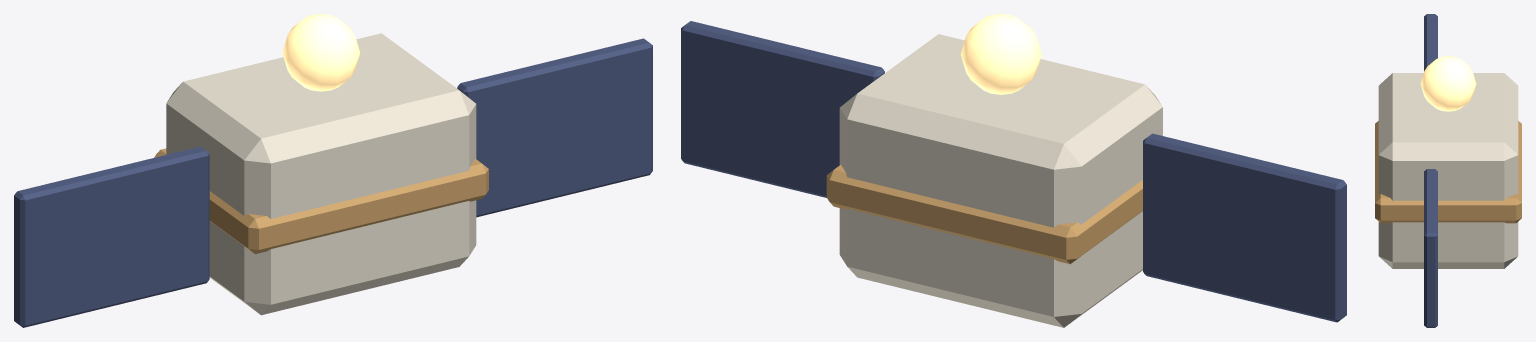
File: orb4_gag_train_satellite.glb
The picture shows the model from 3 angles, left to right: view 1: azimuth 30°, elevation 25°; view 2: azimuth 150°, elevation 25°; view 3: azimuth 270°, elevation 25°; orthographic projection. The views are drawn at different scales.
Parts seen in each view (by area): view 1: orb4_gag_train_satellite__orb3-ivory-ceramic, orb4_gag_train_satellite__orb3-indigo-glaze, orb4_gag_train_satellite__orb3-brushed-brass, orb4_gag_train_satellite__orb4-warm-lamp; view 2: orb4_gag_train_satellite__orb3-ivory-ceramic, orb4_gag_train_satellite__orb3-indigo-glaze, orb4_gag_train_satellite__orb3-brushed-brass, orb4_gag_train_satellite__orb4-warm-lamp; view 3: orb4_gag_train_satellite__orb3-ivory-ceramic, orb4_gag_train_satellite__orb3-brushed-brass, orb4_gag_train_satellite__orb3-indigo-glaze, orb4_gag_train_satellite__orb4-warm-lamp.
Part boxes in pixels (left/top/right/bottom): orb4_gag_train_satellite__orb3-ivory-ceramic: left=166, top=33, right=476, bottom=315; orb4_gag_train_satellite__orb3-indigo-glaze: left=14, top=38, right=652, bottom=327; orb4_gag_train_satellite__orb3-brushed-brass: left=154, top=148, right=488, bottom=253; orb4_gag_train_satellite__orb4-warm-lamp: left=282, top=14, right=360, bottom=91; orb4_gag_train_satellite__orb3-ivory-ceramic: left=839, top=34, right=1162, bottom=327; orb4_gag_train_satellite__orb3-indigo-glaze: left=681, top=21, right=1346, bottom=322; orb4_gag_train_satellite__orb3-brushed-brass: left=826, top=165, right=1142, bottom=264; orb4_gag_train_satellite__orb4-warm-lamp: left=960, top=14, right=1041, bottom=94; orb4_gag_train_satellite__orb3-ivory-ceramic: left=1378, top=73, right=1518, bottom=268; orb4_gag_train_satellite__orb3-brushed-brass: left=1375, top=121, right=1521, bottom=223; orb4_gag_train_satellite__orb3-indigo-glaze: left=1424, top=14, right=1437, bottom=327; orb4_gag_train_satellite__orb4-warm-lamp: left=1420, top=56, right=1476, bottom=111.
Bounding box in the file's own units: 3 × 1.11 × 0.84.
